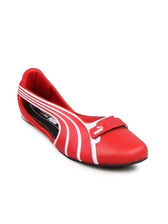shoes: (12, 67, 157, 170)
